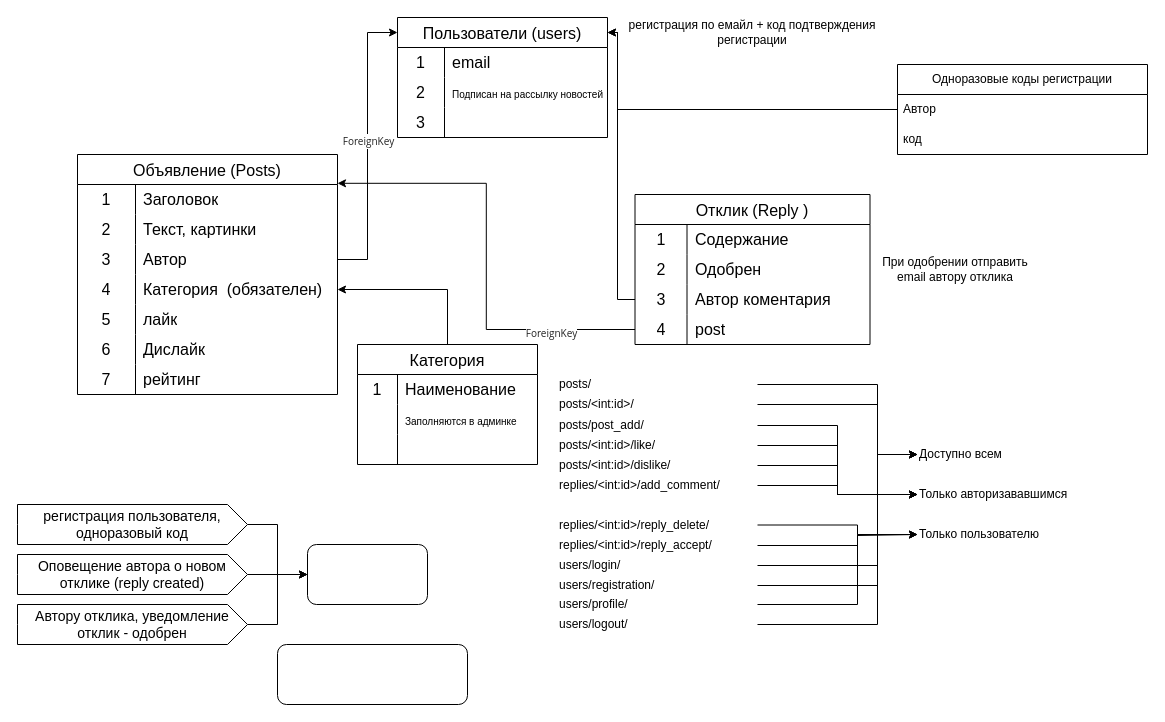
The diagram is 1165 pixels wide and 722 high, and some of its shapes have lost their labels. Each missing label, with the centre of its shape:
Перидически чистить одноразовые коды регистрации: the point at 372,674
Сигнал отправки email: the point at 367,574
